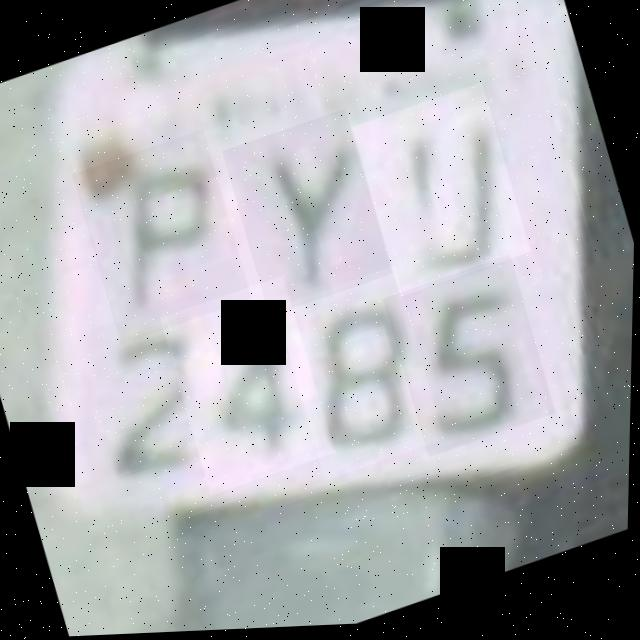2: (52, 290, 258, 518)
4: (158, 275, 339, 499)
5: (382, 257, 560, 462)
8: (273, 267, 450, 485)
P: (69, 129, 256, 347)
U: (349, 84, 535, 302)
Y: (220, 109, 396, 320)
